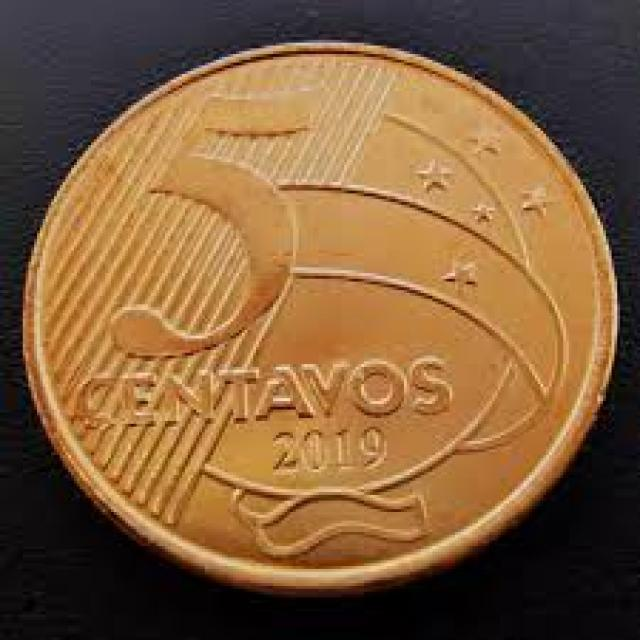5 cent: (38, 39, 616, 585)
